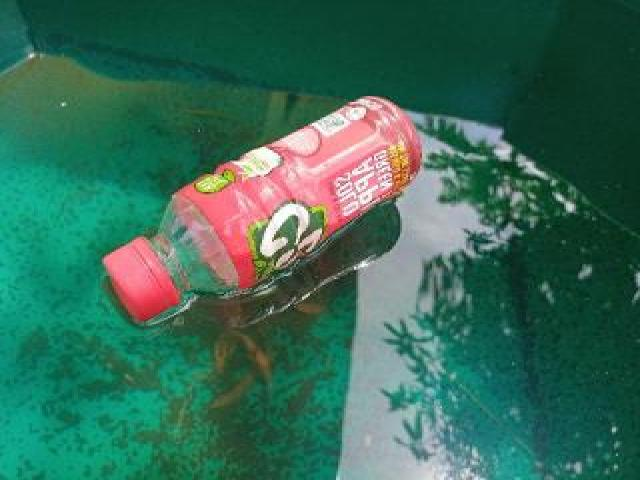Bottle: (93, 92, 427, 328)
